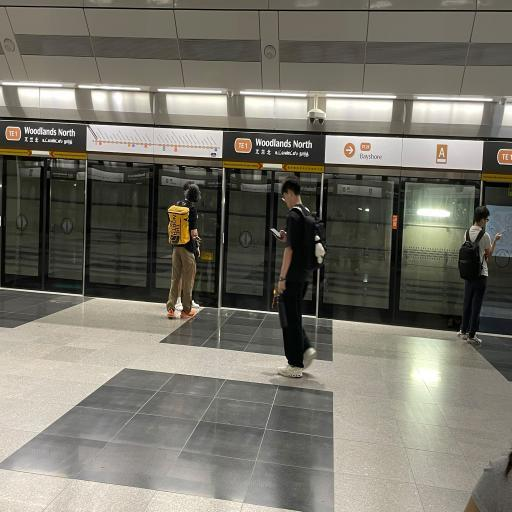person_left: (266, 175, 326, 382)
